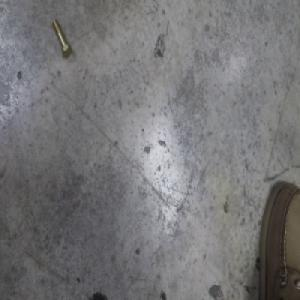Bolt: (51, 19, 71, 60)
